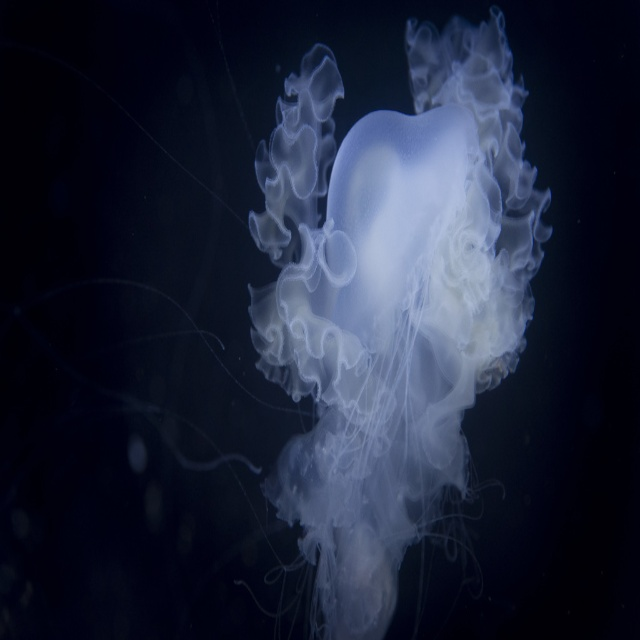Jellyfish: (247, 0, 554, 639)
